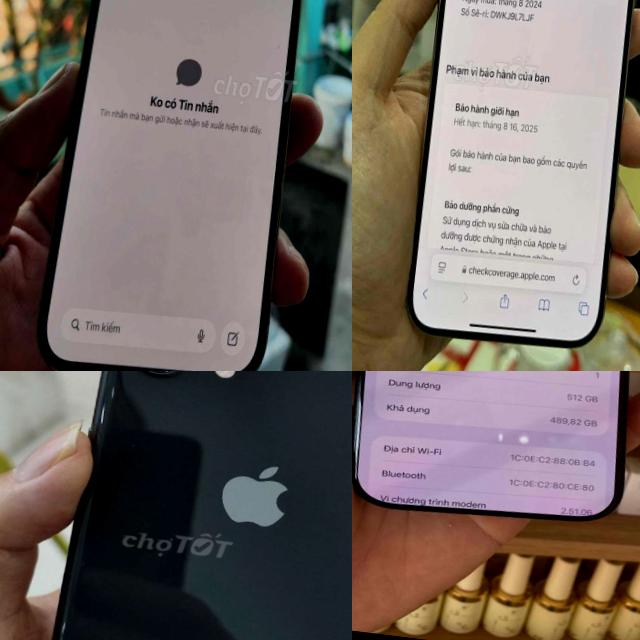scratch: (88, 386, 118, 428)
